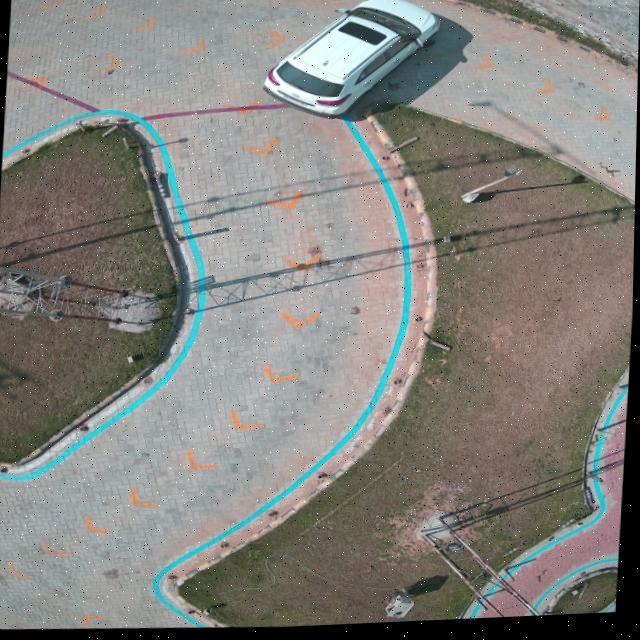car: (264, 0, 439, 120)
